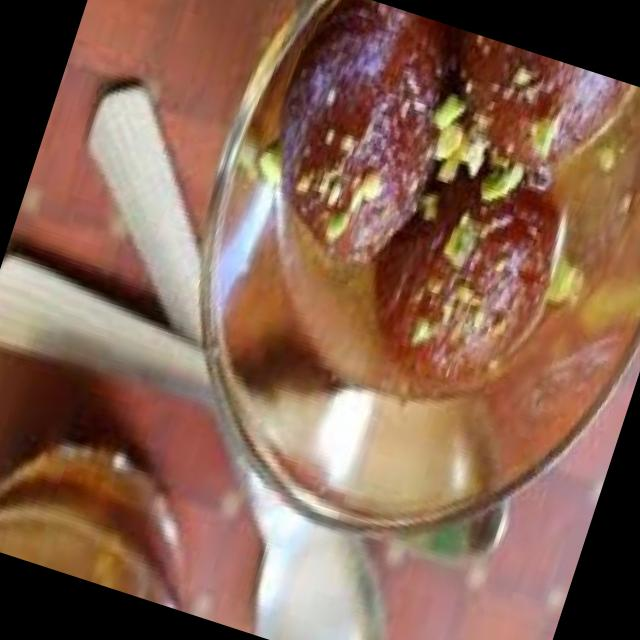gulab_jamun: (242, 0, 477, 282), (347, 141, 578, 411), (430, 30, 632, 188)
